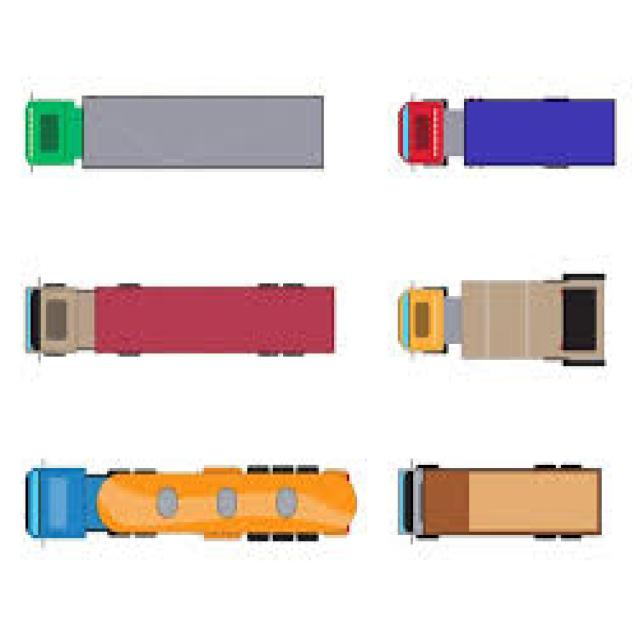truck: (17, 86, 345, 181), (25, 465, 354, 539), (24, 282, 334, 360), (395, 277, 607, 367), (394, 96, 620, 169), (395, 467, 606, 541)
